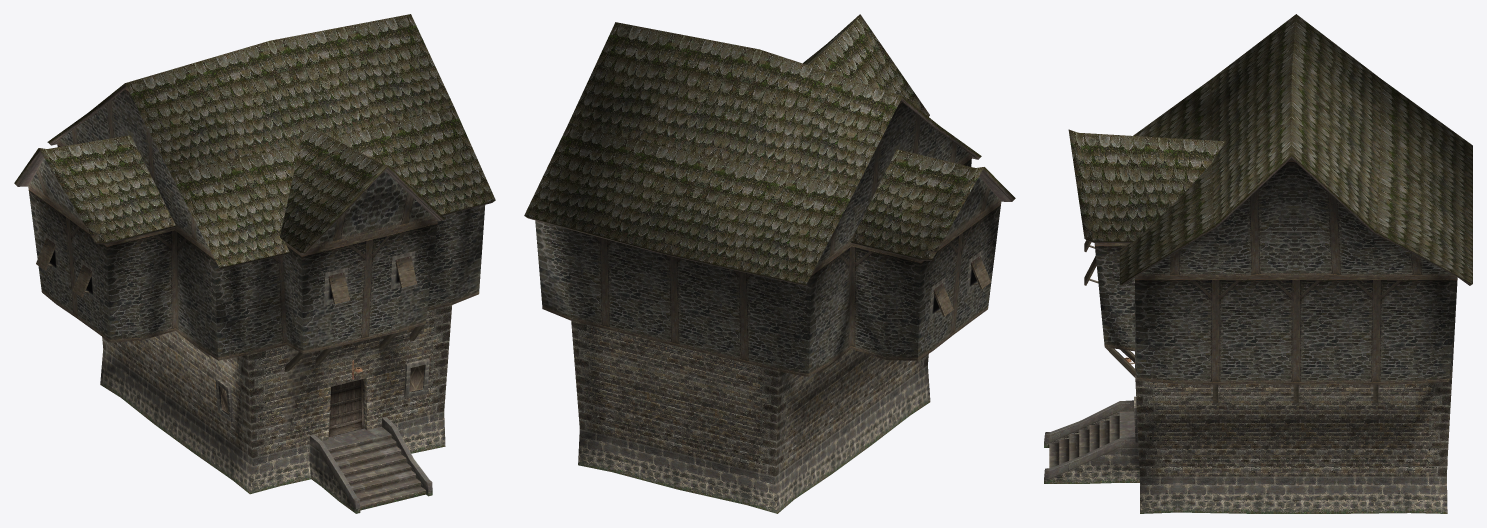
Rendered from OZ_09_kn_house01A.glb.
3 renders of one model, left to right at view 1: azimuth 30°, elevation 25°; view 2: azimuth 150°, elevation 25°; view 3: azimuth 270°, elevation 25°, orthographic. The views are drawn at different scales.
Parts seen in each view (by area): view 1: OM_09_kn_house01A; view 2: OM_09_kn_house01A; view 3: OM_09_kn_house01A.
Boxes of the visible parts, x1,y1,x2,y2 form: OM_09_kn_house01A: (14, 14, 495, 513); OM_09_kn_house01A: (524, 14, 1015, 513); OM_09_kn_house01A: (1044, 14, 1472, 513).
Bounding box in the file's own units: 16.43 × 15.88 × 15.94.
Materials: 7 (7 with a texture image).
